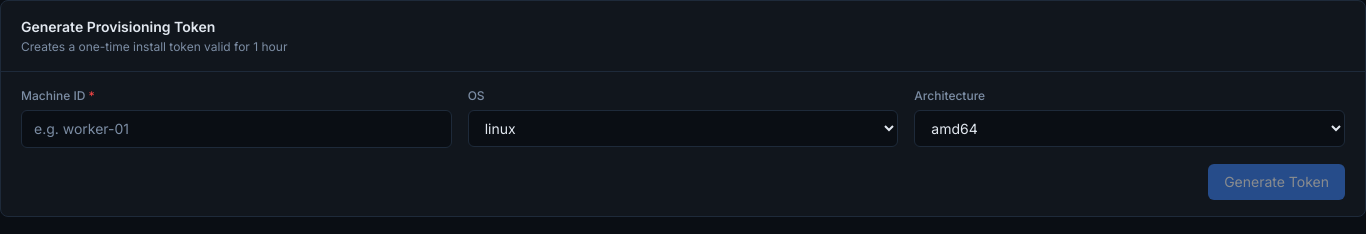
TokenGenerator › enables Generate Token button when machine ID is provided
Type "worker-1" into the field with placeholder "e.g. worker-01" at (236, 129), box [21, 110, 452, 148]
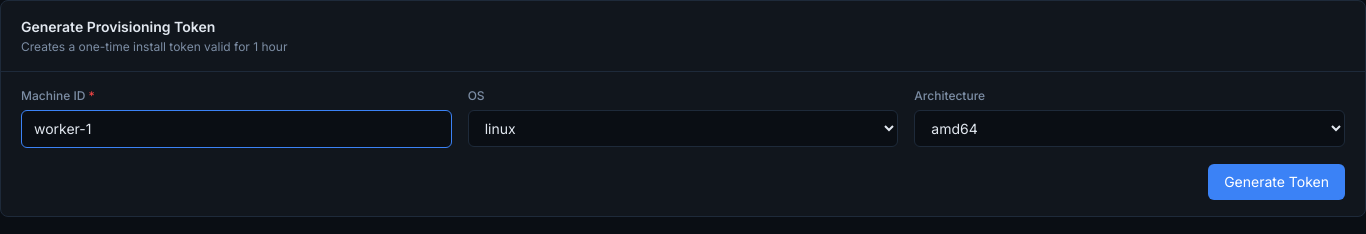
Now the button "Generate Token" is enabled, box [1208, 164, 1345, 200]
